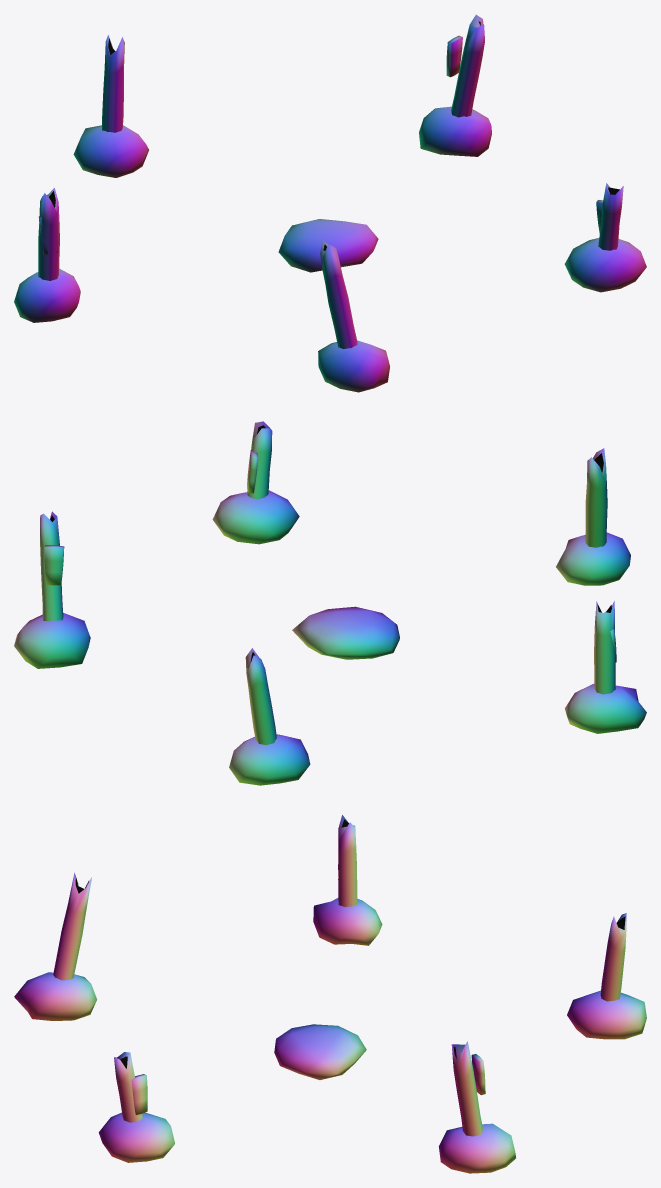
File: SM_Prop_March_RitualCircle.fbx
3 renders of one model, top to bottom at view 1: azimuth 30°, elevation 25°; view 2: azimuth 150°, elevation 25°; view 3: azimuth 270°, elevation 25°, orthographic. The views are drawn at different scales.
Parts seen in each view (by area): view 1: SM_Prop_March_RitualCircle; view 2: SM_Prop_March_RitualCircle; view 3: SM_Prop_March_RitualCircle.
Part boxes in pixels (x1,y1,x2,y2): SM_Prop_March_RitualCircle: (14, 14, 646, 392); SM_Prop_March_RitualCircle: (14, 421, 646, 785); SM_Prop_March_RitualCircle: (14, 815, 646, 1173).
Bounding box in the file's own units: 2.79 × 0.6878 × 2.89.
